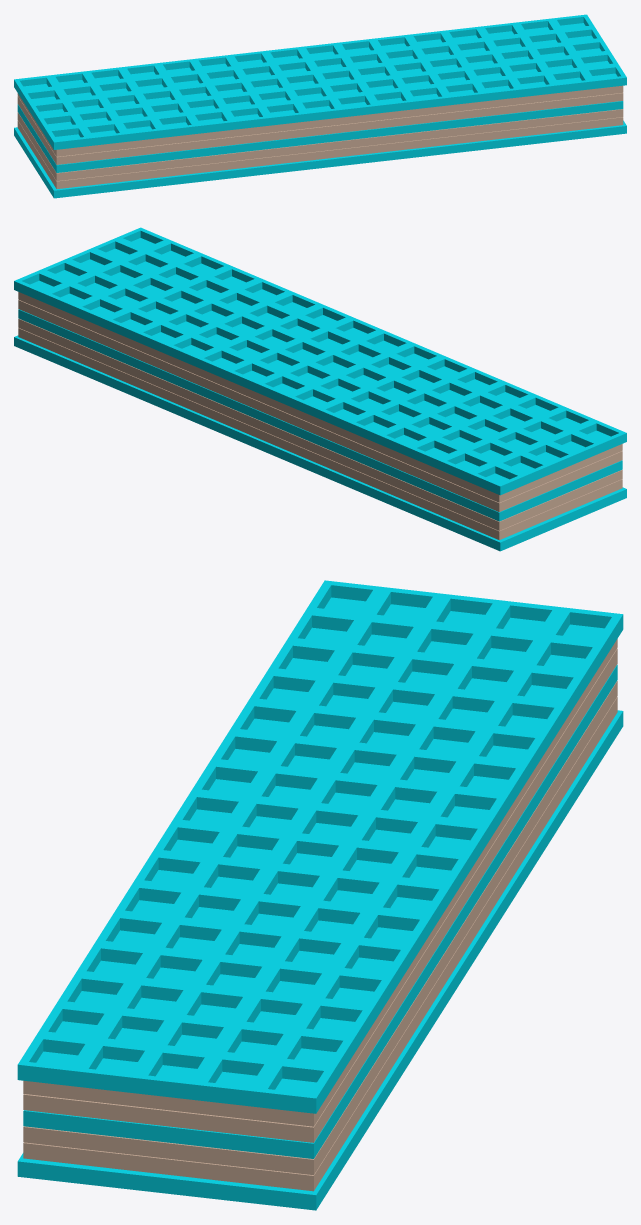
The model's file is Waffer cookie.gltf.
The picture shows the model from 3 angles, top to bottom: view 1: azimuth 30°, elevation 25°; view 2: azimuth 150°, elevation 25°; view 3: azimuth 270°, elevation 25°; orthographic projection. The views are drawn at different scales.
Parts seen in each view (by area): view 1: node-0; view 2: node-0; view 3: node-0.
Boxes of the visible parts, x1,y1,x2,y2 form: node-0: (14,14,626,198); node-0: (14,227,626,551); node-0: (17,580,623,1210).
Bounding box in the file's own units: 2689295 × 271228 × 1328459.
